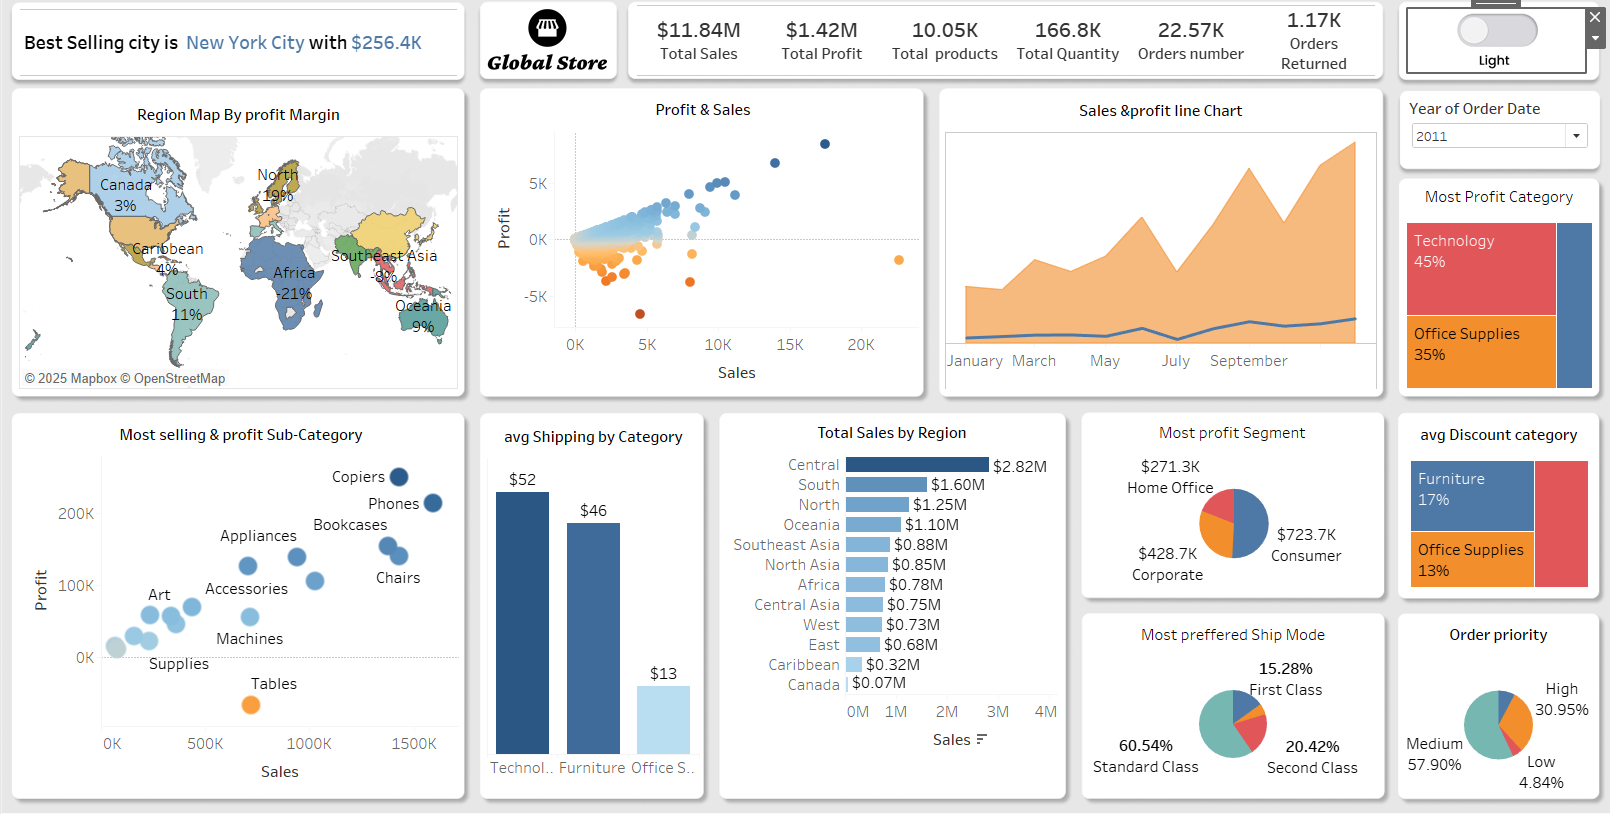

The page's visual inventory and layout, read from the dashboard file:
{"tool":"tableau","page":{"name":"Global Store ","canvas":[1000,1000],"units":"permille","ordinal":1},"visuals":[{"type":"image","param":"Image/Light.png","box":[4.8,9.4,990.3,981.2]},{"type":"image","param":"Image/1.png","box":[305.8,25.9,74.8,82.3]},{"type":"worksheet","title":"Card","mark":"Automatic","box":[397.5,25.9,445.7,83.4]},{"type":"worksheet","title":"City With most Sales","mark":"Automatic","rows":["City"],"box":[25.3,30.6,263.6,78.7]},{"type":"dashboard-object","box":[863.1,30.6,106.8,74]},{"type":"worksheet","title":"Profit & Sales","mark":"Automatic","rows":["Profit"],"cols":["Sales"],"box":[306.4,131.6,261.8,346.7]},{"type":"worksheet","title":"Sales &profit line Chart","mark":"Automatic","rows":["Sales","Profit"],"cols":["Order Date"],"box":[583.8,132.8,260.6,345.5]},{"type":"filter","title":"Sales &profit line Chart","param":"[federated.12zf0ef0l0rug40zyry801hxga2e].[yr:Order Date:ok]","box":[863.7,135.1,109.8,74]},{"type":"worksheet","title":"Region Map By profit Margin","mark":"Multipolygon","box":[24.7,137.5,264.8,339.6]},{"type":"worksheet","title":"Most Profit Category","mark":"Automatic","box":[859.5,233.8,117,246.8]},{"type":"worksheet","title":"Total Sales by Region","mark":"Automatic","rows":["Region"],"cols":["Sales"],"box":[450.5,511.2,201.5,439.5]},{"type":"worksheet","title":"Most profit Segment ","mark":"Pie","box":[669.5,511.2,177.3,205.6]},{"type":"worksheet","title":"Most selling & profit Sub-Category","mark":"Automatic","rows":["Profit"],"cols":["Sales"],"box":[27.1,513.5,263,433.6]},{"type":"worksheet","title":"avg Discount category","mark":"Automatic","box":[861.9,513.5,112.2,200.9]},{"type":"worksheet","title":"avg Shipping by Category","mark":"Automatic","rows":["Shipping Cost"],"cols":["Category"],"box":[307,515.9,128.5,437.1]},{"type":"worksheet","title":"Most preffered Ship Mode","mark":"Pie","box":[671.3,748.5,172.5,202.1]},{"type":"worksheet","title":"Order priority","mark":"Pie","box":[860.1,748.5,115.2,204.5]}]}

Visuals, with their boxes on the dashboard's canvas, which has no fixed pixel size, in thousandths of its width and height (x1, y1, x2, y2). These are canvas units, not pixel positions in the 1610x814 screenshot, which may show the page scaled, cropped or inside an application window:
image: x1=5 y1=9 x2=995 y2=991
image: x1=306 y1=26 x2=381 y2=108
"Card" worksheet: x1=398 y1=26 x2=843 y2=109
"City With most Sales" worksheet: x1=25 y1=31 x2=289 y2=109
dashboard-object: x1=863 y1=31 x2=970 y2=105
"Profit & Sales" worksheet: x1=306 y1=132 x2=568 y2=478
"Sales &profit line Chart" worksheet: x1=584 y1=133 x2=844 y2=478
"Sales &profit line Chart" filter: x1=864 y1=135 x2=974 y2=209
"Region Map By profit Margin" worksheet (Multipolygon marks): x1=25 y1=138 x2=290 y2=477
"Most Profit Category" worksheet: x1=860 y1=234 x2=976 y2=481
"Total Sales by Region" worksheet: x1=450 y1=511 x2=652 y2=951
"Most profit Segment " worksheet (Pie marks): x1=670 y1=511 x2=847 y2=717
"Most selling & profit Sub-Category" worksheet: x1=27 y1=514 x2=290 y2=947
"avg Discount category" worksheet: x1=862 y1=514 x2=974 y2=714
"avg Shipping by Category" worksheet: x1=307 y1=516 x2=436 y2=953
"Most preffered Ship Mode" worksheet (Pie marks): x1=671 y1=748 x2=844 y2=951
"Order priority" worksheet (Pie marks): x1=860 y1=748 x2=975 y2=953
